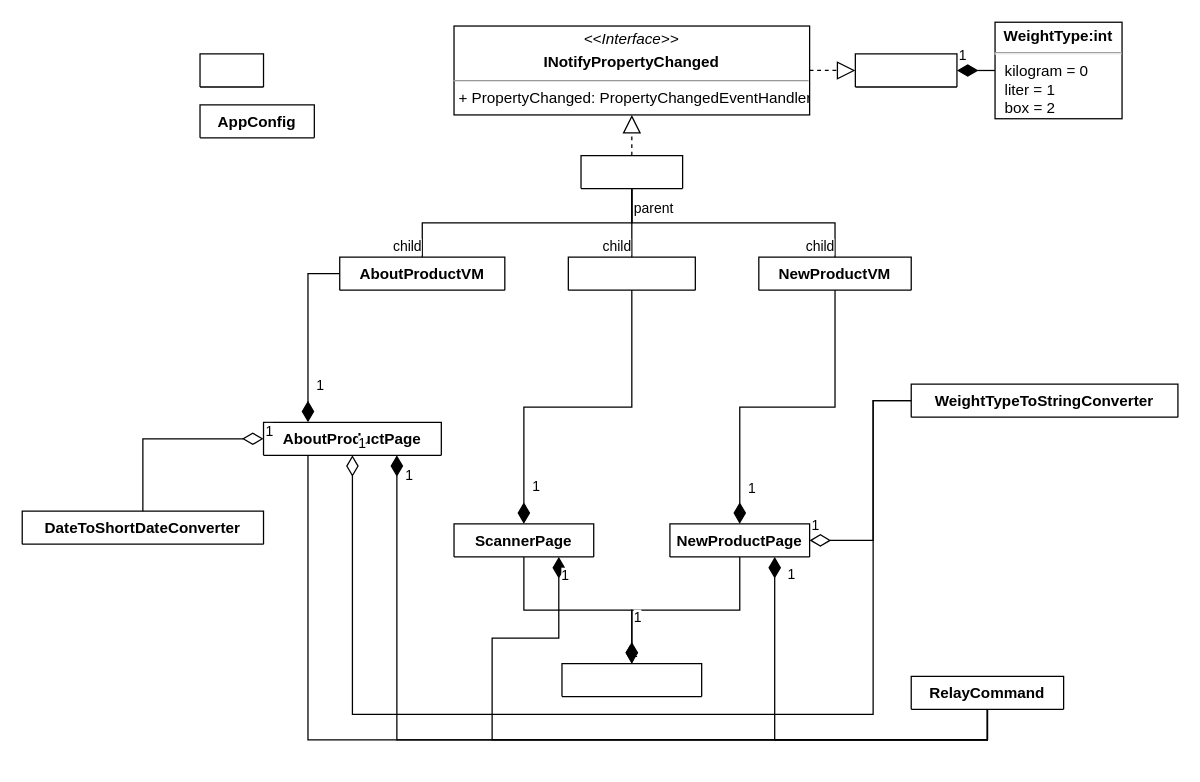
The diagram is 1200 pixels wide and 782 high, and some of its shapes have lost their labels. The centre of each missing label's shape, as x and y in pixels:
"App" belongs at point (231, 70).
"BaseVM" belongs at point (631, 171).
"MainPage" belongs at point (631, 679).
"Product" belongs at point (905, 70).
"ScannerVM" belongs at point (631, 273).
